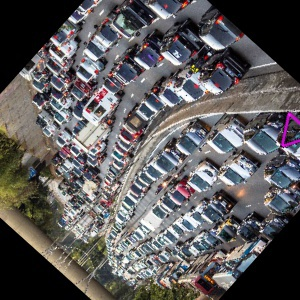triangle: (277, 109, 300, 149)
